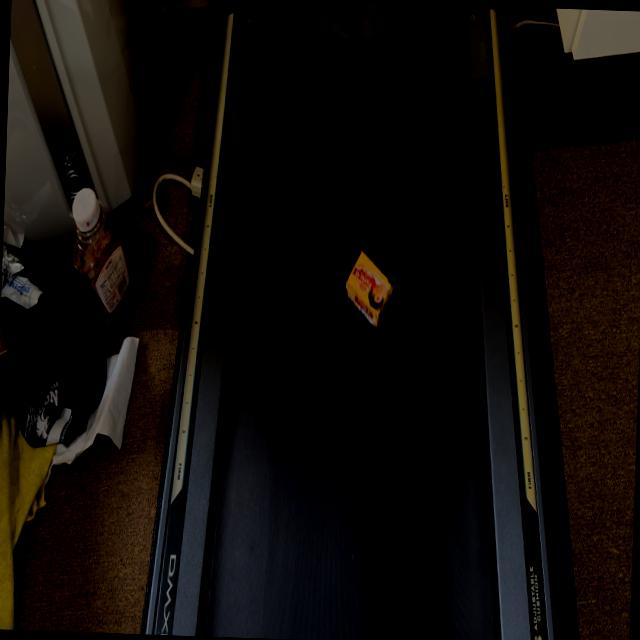Trash: (344, 244, 394, 322)
